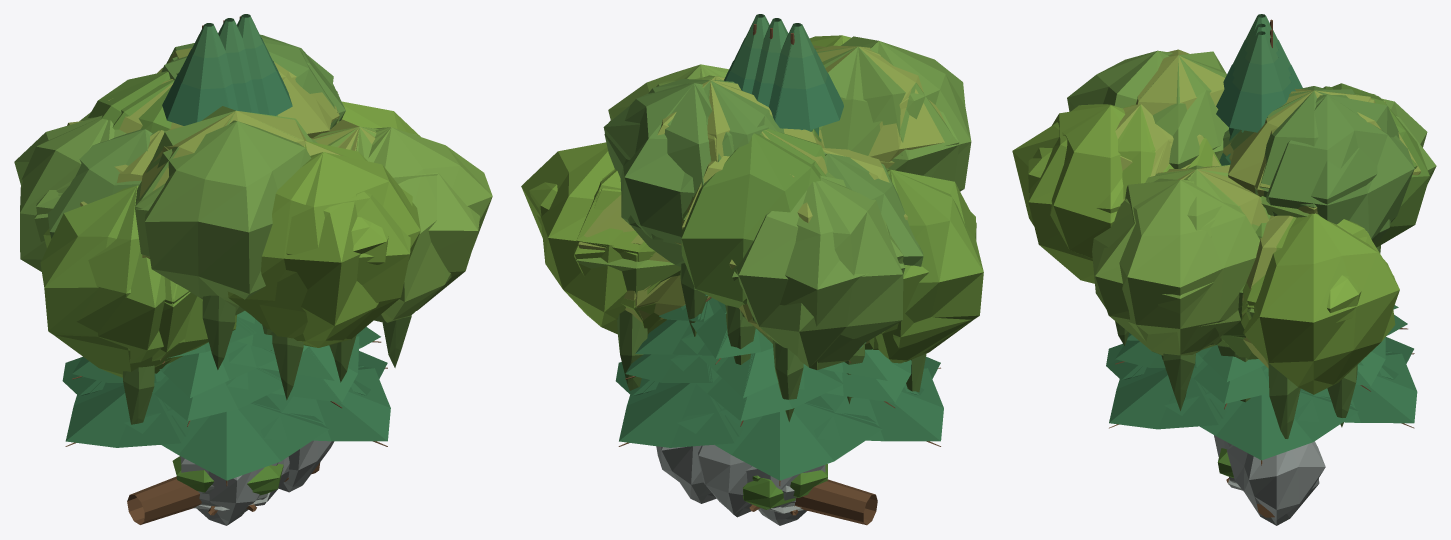
File: emerald-library.glb
3 views of the same model, side by side, from view 1: azimuth 30°, elevation 25°; view 2: azimuth 150°, elevation 25°; view 3: azimuth 270°, elevation 25° (orthographic). The views are drawn at different scales.
Parts seen in each view (by area): view 1: ancient-oak-near, pine-b-near, ancient-oak-far, fir-a-near, willow-a-near, fir-a-far, outcrop, oak-b-near, oak-c-near, birch-a-near, fallen-log, pine-c-near (+6 smaller); view 2: ancient-oak-near, pine-b-near, ancient-oak-far, fir-a-near, willow-a-near, oak-b-near, oak-c-near, birch-b-near, outcrop, oak-a-near, birch-a-near, pine-b-far (+6 smaller); view 3: ancient-oak-near, pine-b-near, ancient-oak-far, oak-b-near, outcrop, birch-b-near, willow-a-near, birch-a-near, oak-c-near, oak-a-near, birch-a-far, pine-b-far (+2 smaller).
Boxes of the visible parts, left/top/right/bottom form: ancient-oak-near: left=20, top=34, right=492, bottom=373; pine-b-near: left=62, top=14, right=390, bottom=486; ancient-oak-far: left=14, top=43, right=479, bottom=377; fir-a-near: left=72, top=23, right=380, bottom=426; willow-a-near: left=122, top=121, right=411, bottom=424; fir-a-far: left=159, top=341, right=334, bottom=397; outcrop: left=180, top=440, right=334, bottom=525; oak-b-near: left=58, top=43, right=375, bottom=303; oak-c-near: left=36, top=56, right=375, bottom=361; birch-a-near: left=80, top=68, right=376, bottom=360; fallen-log: left=127, top=462, right=320, bottom=524; pine-c-near: left=157, top=18, right=338, bottom=408; ancient-oak-near: left=521, top=35, right=983, bottom=369; pine-b-near: left=615, top=14, right=943, bottom=485; ancient-oak-far: left=603, top=36, right=976, bottom=369; fir-a-near: left=627, top=23, right=911, bottom=422; willow-a-near: left=575, top=168, right=926, bottom=421; oak-b-near: left=574, top=47, right=959, bottom=320; oak-c-near: left=576, top=46, right=905, bottom=320; birch-b-near: left=578, top=45, right=945, bottom=344; outcrop: left=656, top=445, right=825, bottom=525; oak-a-near: left=591, top=46, right=959, bottom=515; birch-a-near: left=625, top=45, right=908, bottom=339; pine-b-far: left=635, top=300, right=876, bottom=436; ancient-oak-near: left=1012, top=50, right=1436, bottom=394; pine-b-near: left=1106, top=31, right=1417, bottom=465; ancient-oak-far: left=1028, top=94, right=1427, bottom=355; oak-b-near: left=1118, top=56, right=1417, bottom=349; outcrop: left=1214, top=435, right=1325, bottom=525; birch-b-near: left=1115, top=49, right=1360, bottom=368; willow-a-near: left=1115, top=196, right=1380, bottom=438; birch-a-near: left=1123, top=55, right=1420, bottom=315; oak-c-near: left=1118, top=51, right=1394, bottom=347; oak-a-near: left=1124, top=55, right=1371, bottom=482; birch-a-far: left=1157, top=90, right=1385, bottom=213; pine-b-far: left=1127, top=128, right=1398, bottom=418.
Size of the model in its own units: 8.43 by 9.59 by 7.7.
